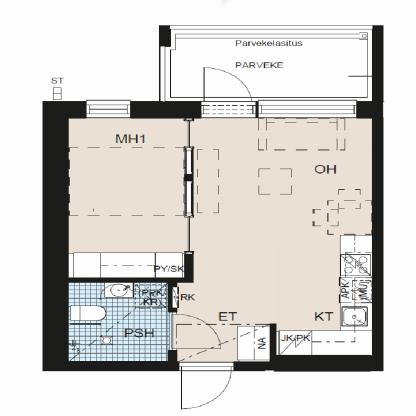door: (180, 361, 233, 412), (167, 312, 221, 350), (202, 67, 252, 105)
window: (262, 101, 354, 119), (197, 103, 256, 118), (83, 102, 134, 117)
zone: (174, 115, 372, 360), (67, 120, 191, 278), (168, 25, 374, 104), (70, 280, 167, 355)
